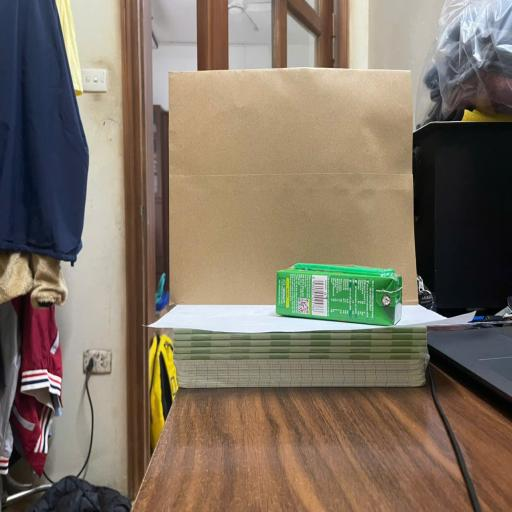milo: (275, 263, 403, 327)
